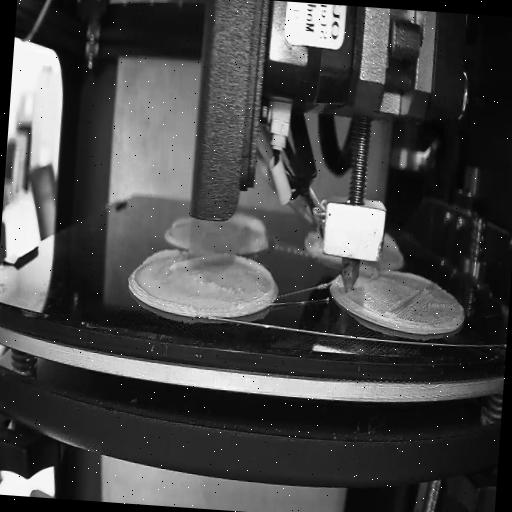over_extrusion: (143, 246, 230, 276), (227, 254, 277, 306), (234, 214, 270, 244)
